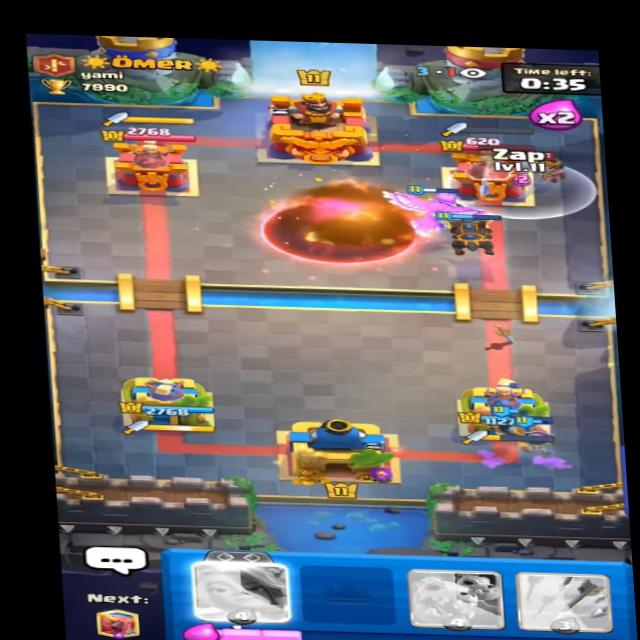little-prince: (533, 148, 580, 188)
